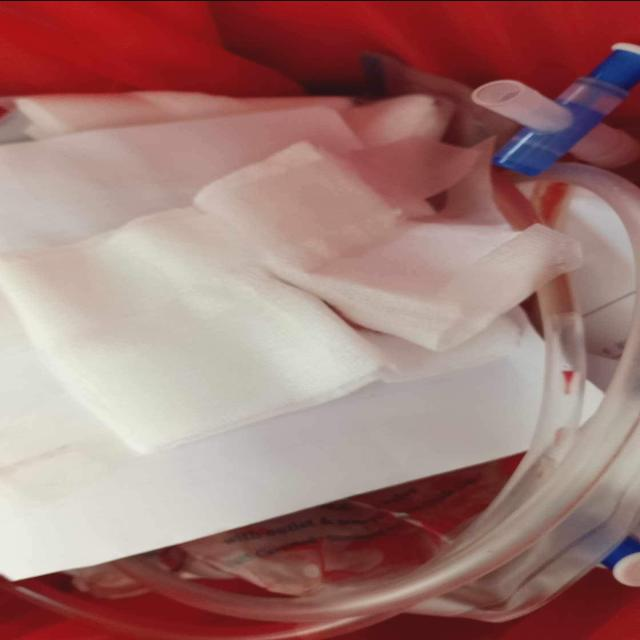General: (2, 44, 636, 636), (3, 445, 636, 637)
Sharps: (486, 40, 638, 176)
